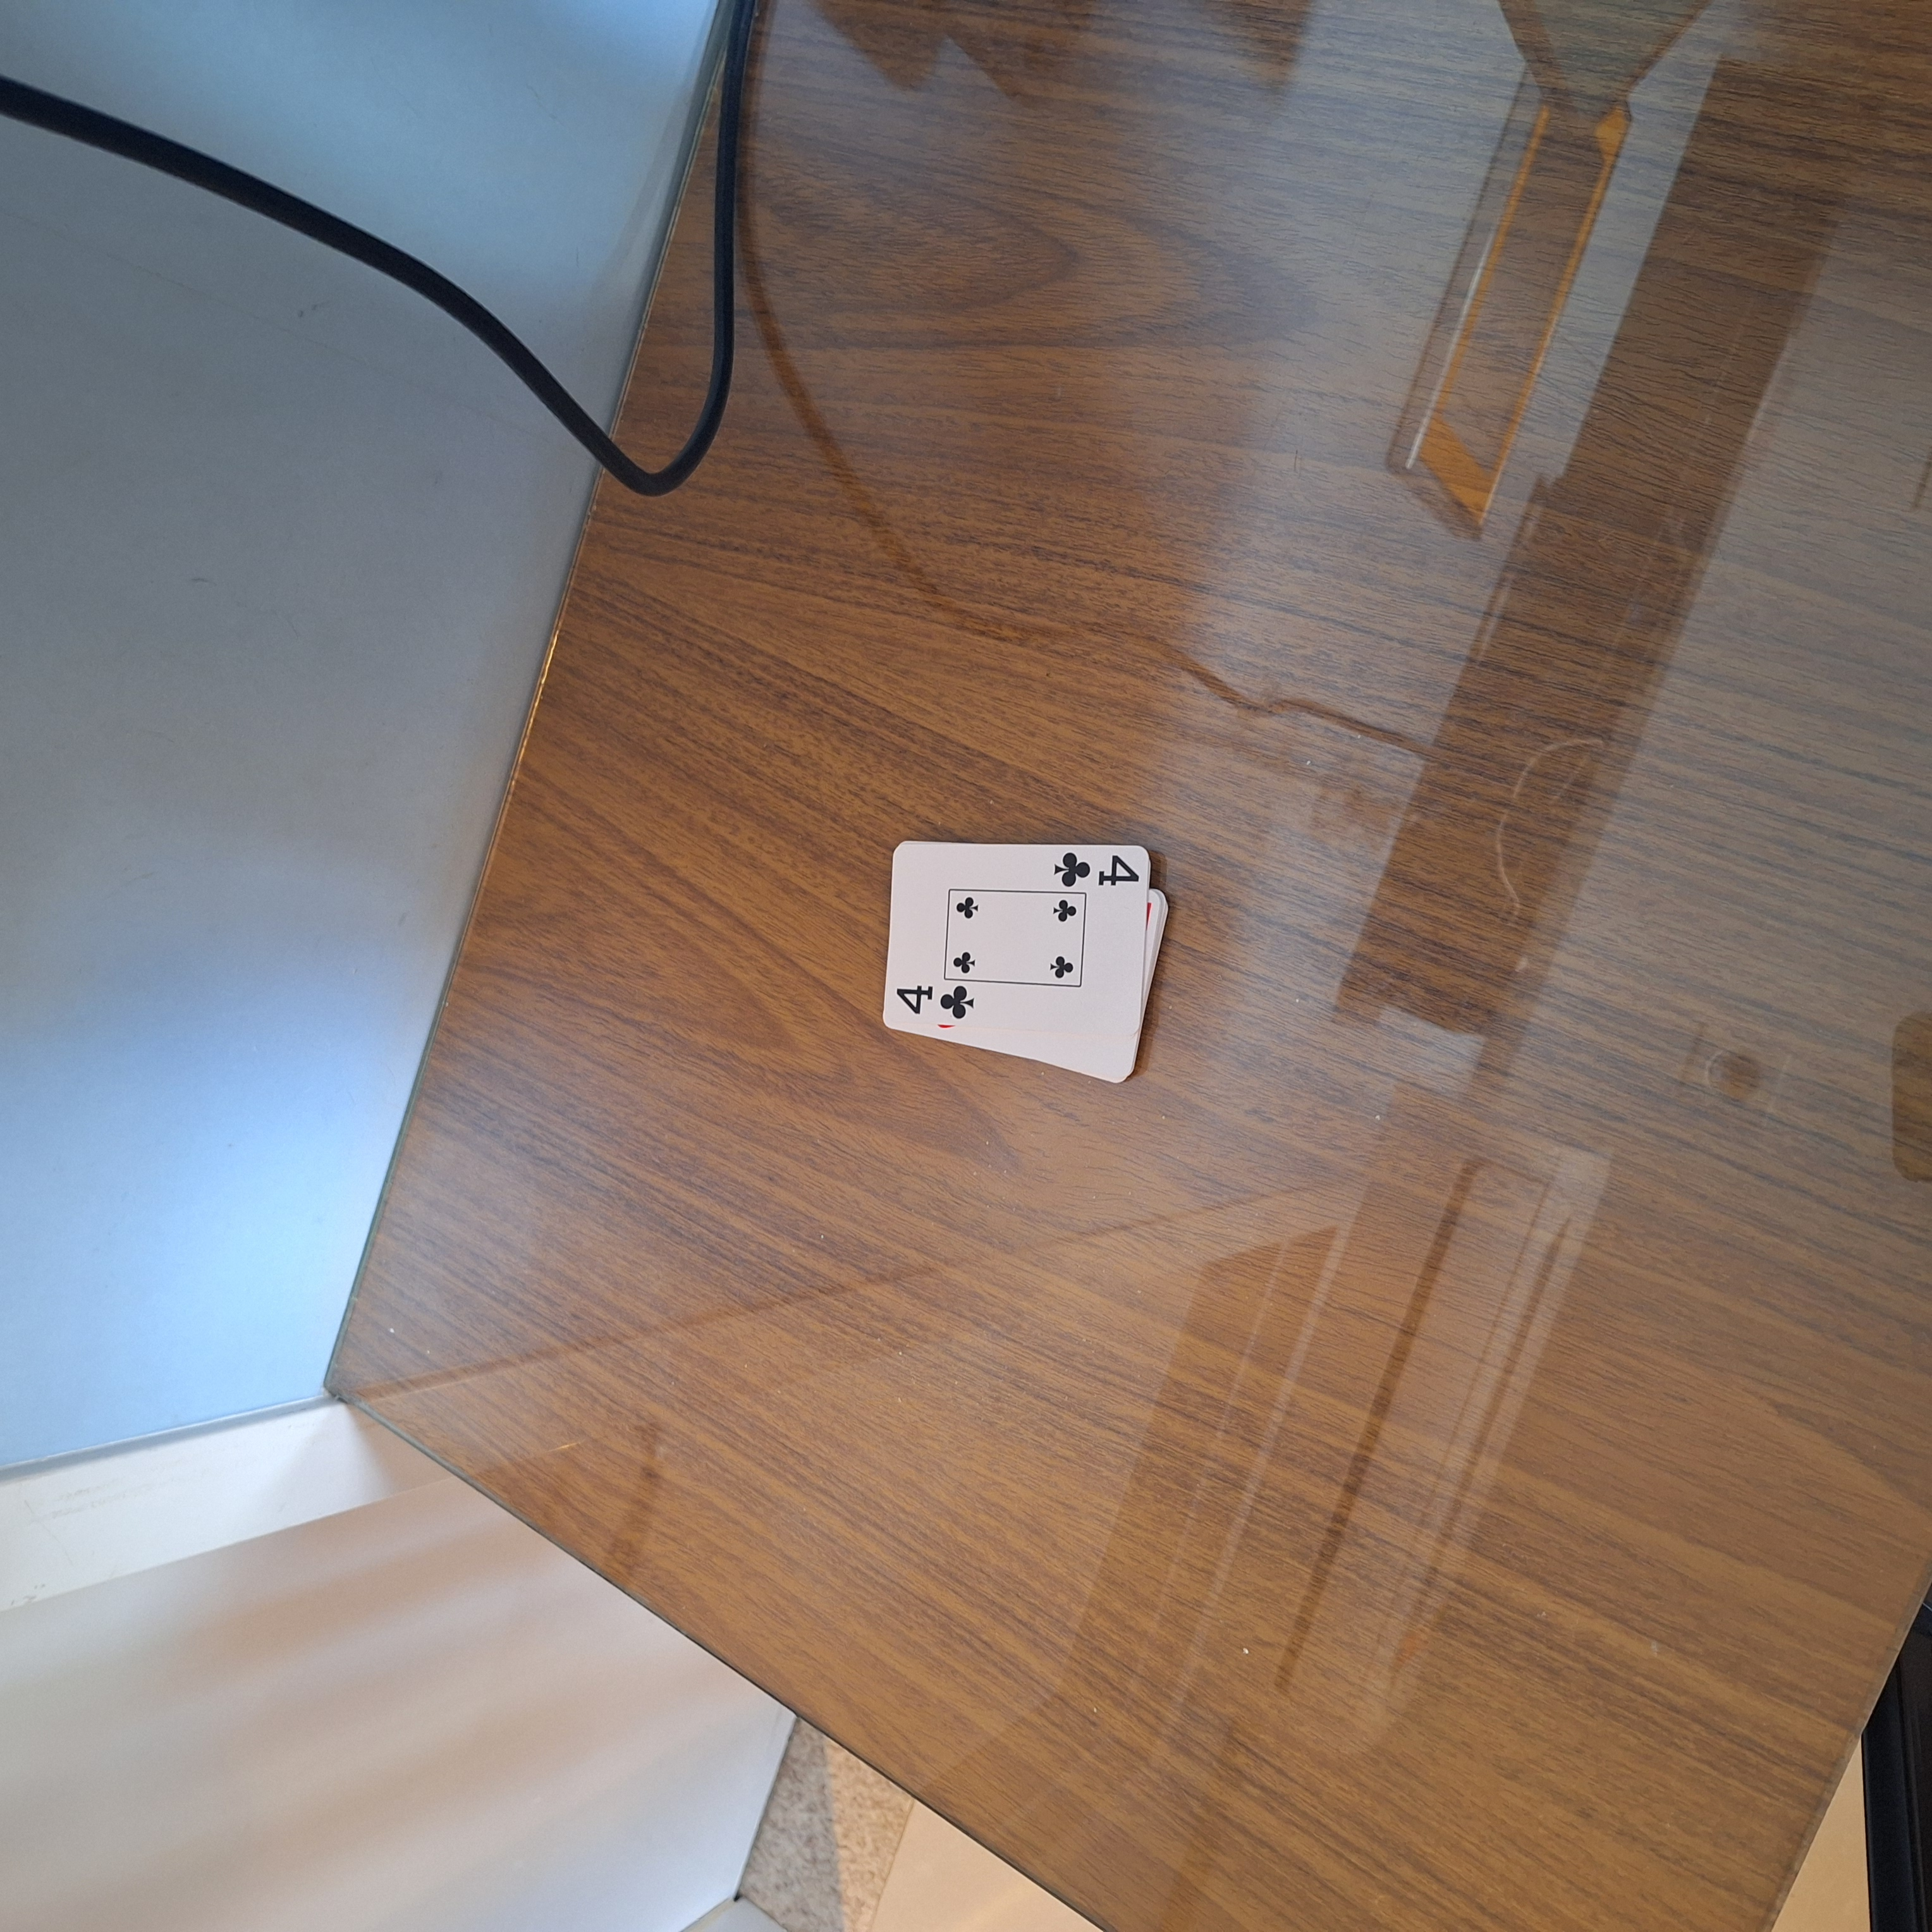4P: (879, 971, 980, 1028), (1044, 846, 1148, 895)
